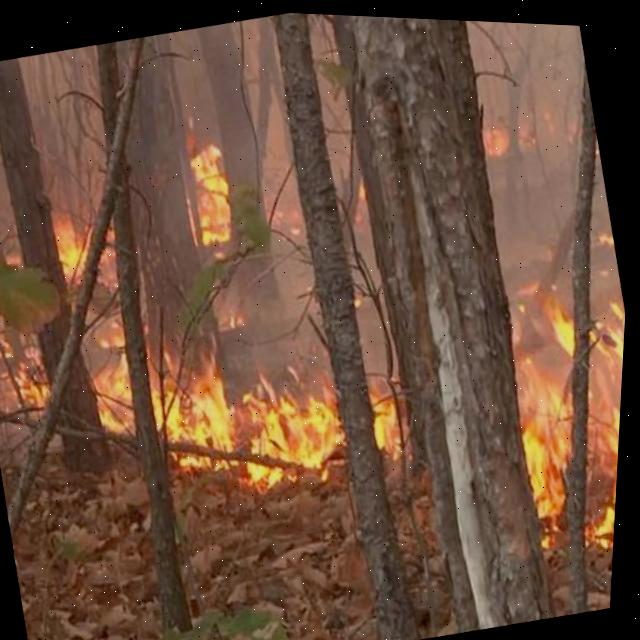fire: (161, 358, 360, 497), (523, 300, 627, 532), (184, 137, 254, 256)
smoke: (0, 10, 626, 404), (477, 17, 625, 304)
